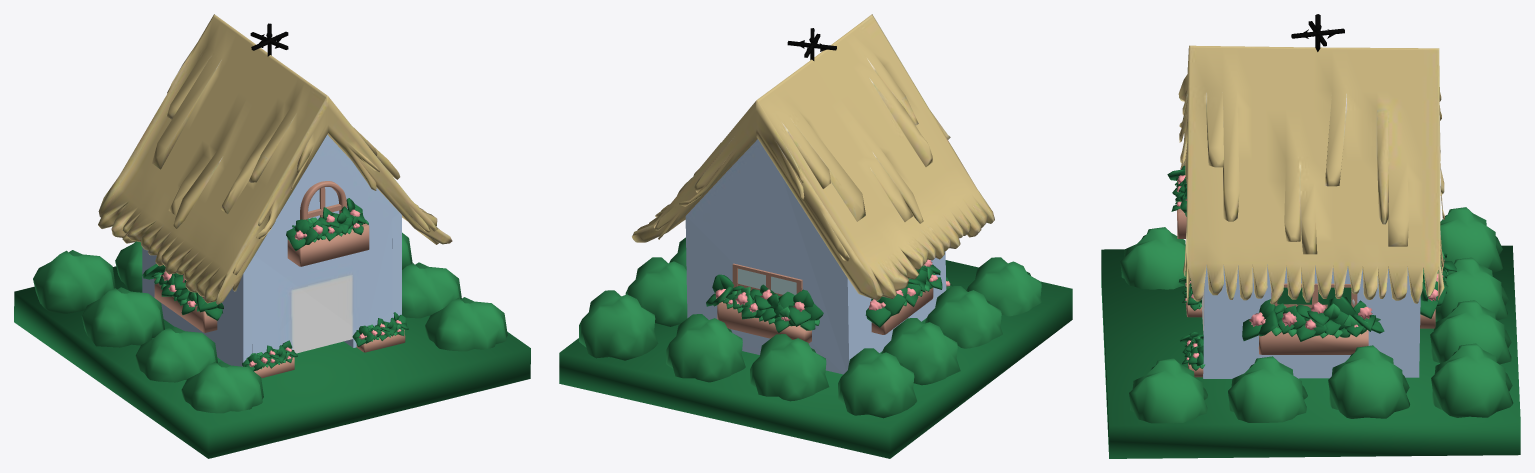
The model's file is house.glb.
The picture shows the model from 3 angles, left to right: view 1: azimuth 30°, elevation 25°; view 2: azimuth 150°, elevation 25°; view 3: azimuth 270°, elevation 25°; orthographic projection. The views are drawn at different scales.
Size of the model in its own units: 3.45 by 3.23 by 3.45.
26 materials, 20 textured.
